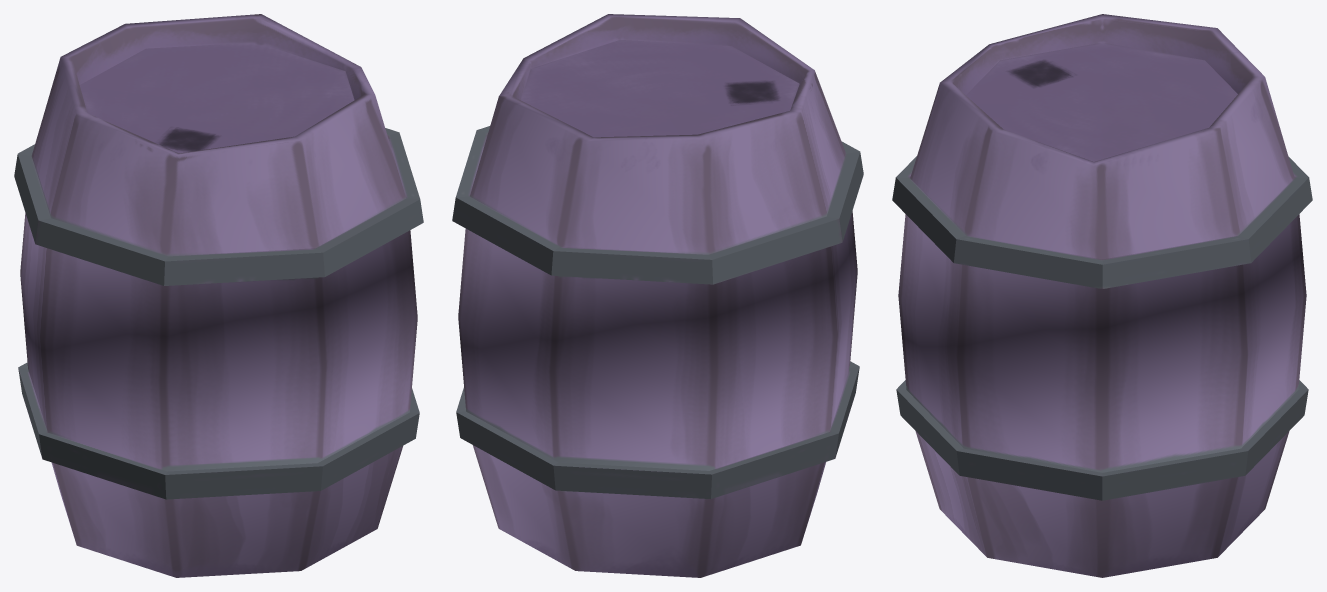
File: Barrel.fbx
3 views of the same model, side by side, from view 1: azimuth 30°, elevation 25°; view 2: azimuth 150°, elevation 25°; view 3: azimuth 270°, elevation 25° (orthographic).
Visible parts, largest first — view 1: Barrel; view 2: Barrel; view 3: Barrel.
Part boxes in pixels (x1,y1,x2,y2): Barrel: (14, 14, 423, 577); Barrel: (452, 14, 863, 577); Barrel: (892, 14, 1312, 577).
Bounding box in the file's own units: 107 × 122 × 107.
